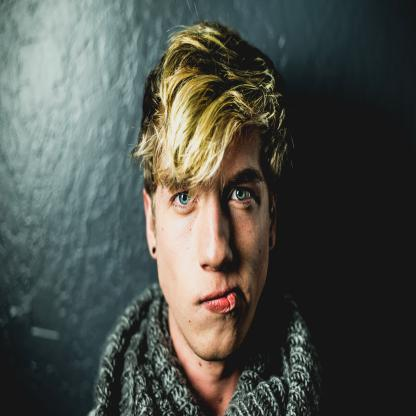Eye: (166, 190, 201, 216), (227, 183, 257, 212)
Mouth: (198, 283, 244, 321)
Nose: (198, 205, 233, 272)
